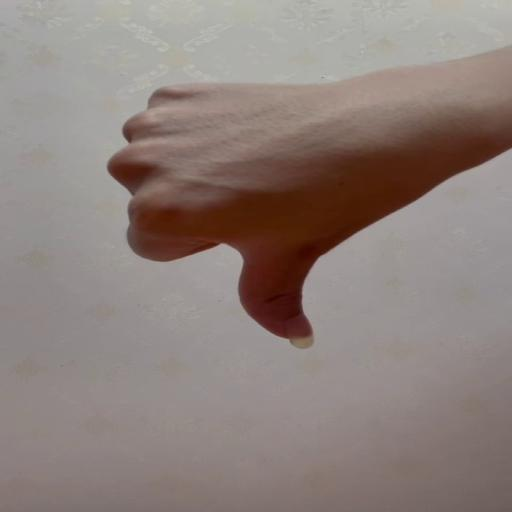thumbs_down: (105, 79, 482, 351)
